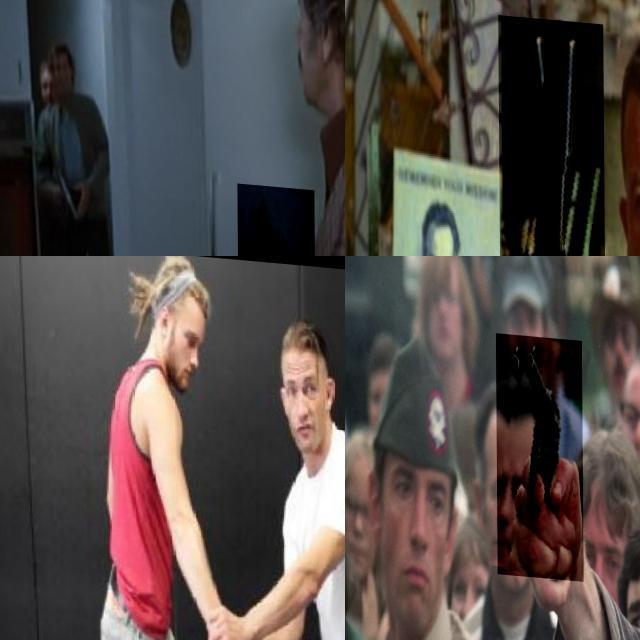gun-knife-thesis - v11 Yolov5 augmented: (498, 10, 605, 256), (496, 328, 583, 576), (236, 178, 314, 256)
